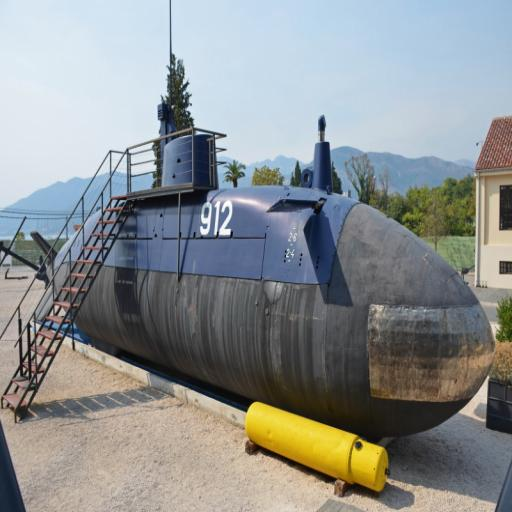submarine: (18, 129, 501, 452)
